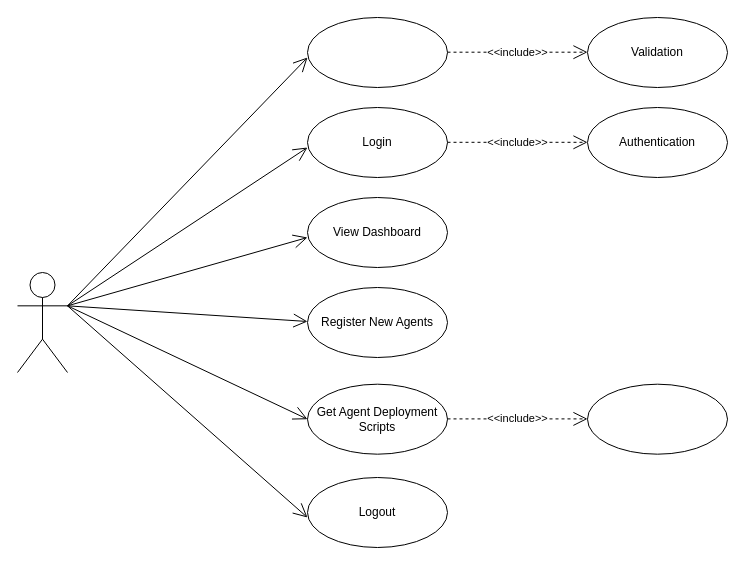
Some shapes in this 745 by 565 pixel diagram are drawn without their labels. The shapes that lost their labels are listed below. From the top down, each one's centre as x and y in pixels, then its label:
the point at 377,52: Registration
the point at 42,322: Manager
the point at 657,418: Invoke-WebRequest for Agent Activation
